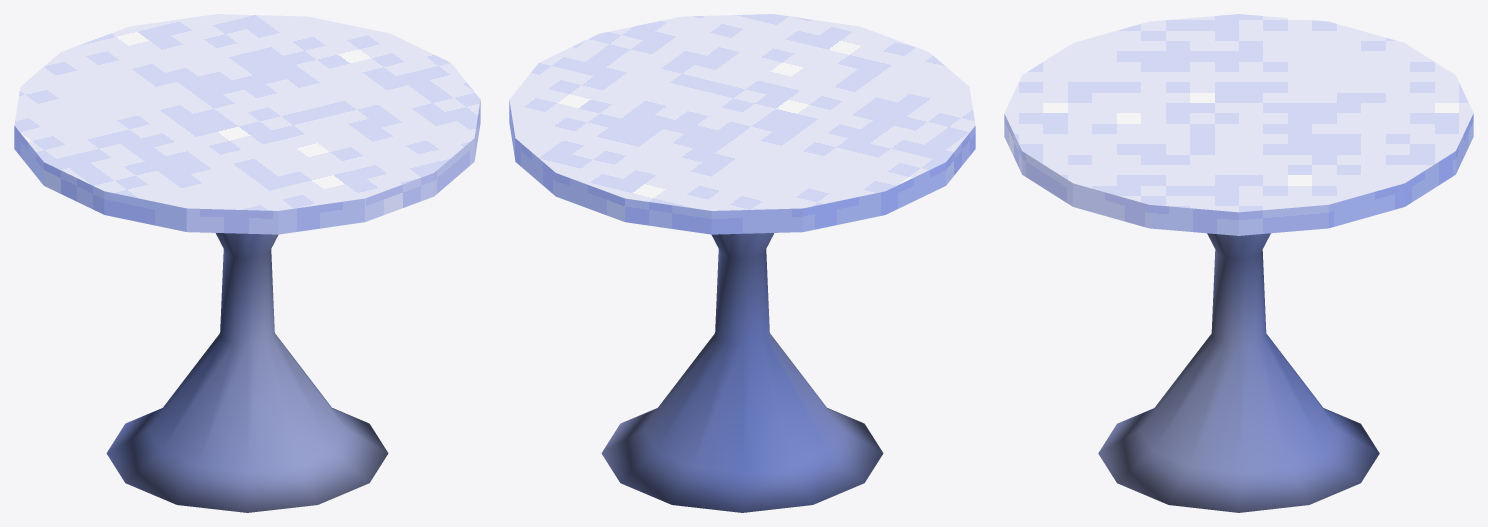
Rendered from furn.table.glb.
3 views of the same model, side by side, from view 1: azimuth 30°, elevation 25°; view 2: azimuth 150°, elevation 25°; view 3: azimuth 270°, elevation 25° (orthographic).
Visible parts, largest first — view 1: kit_table_top, kit_table_base; view 2: kit_table_top, kit_table_base; view 3: kit_table_top, kit_table_base.
Boxes of the visible parts, x1=… form: kit_table_top: x1=14, y1=14, x2=480, y2=234; kit_table_base: x1=106, y1=233, x2=388, y2=512; kit_table_top: x1=509, y1=14, x2=975, y2=234; kit_table_base: x1=601, y1=233, x2=883, y2=512; kit_table_top: x1=1004, y1=14, x2=1473, y2=235; kit_table_base: x1=1098, y1=233, x2=1379, y2=512.
Bounding box in the file's own units: 0.9 × 0.72 × 0.9.
2 materials, 1 textured.
